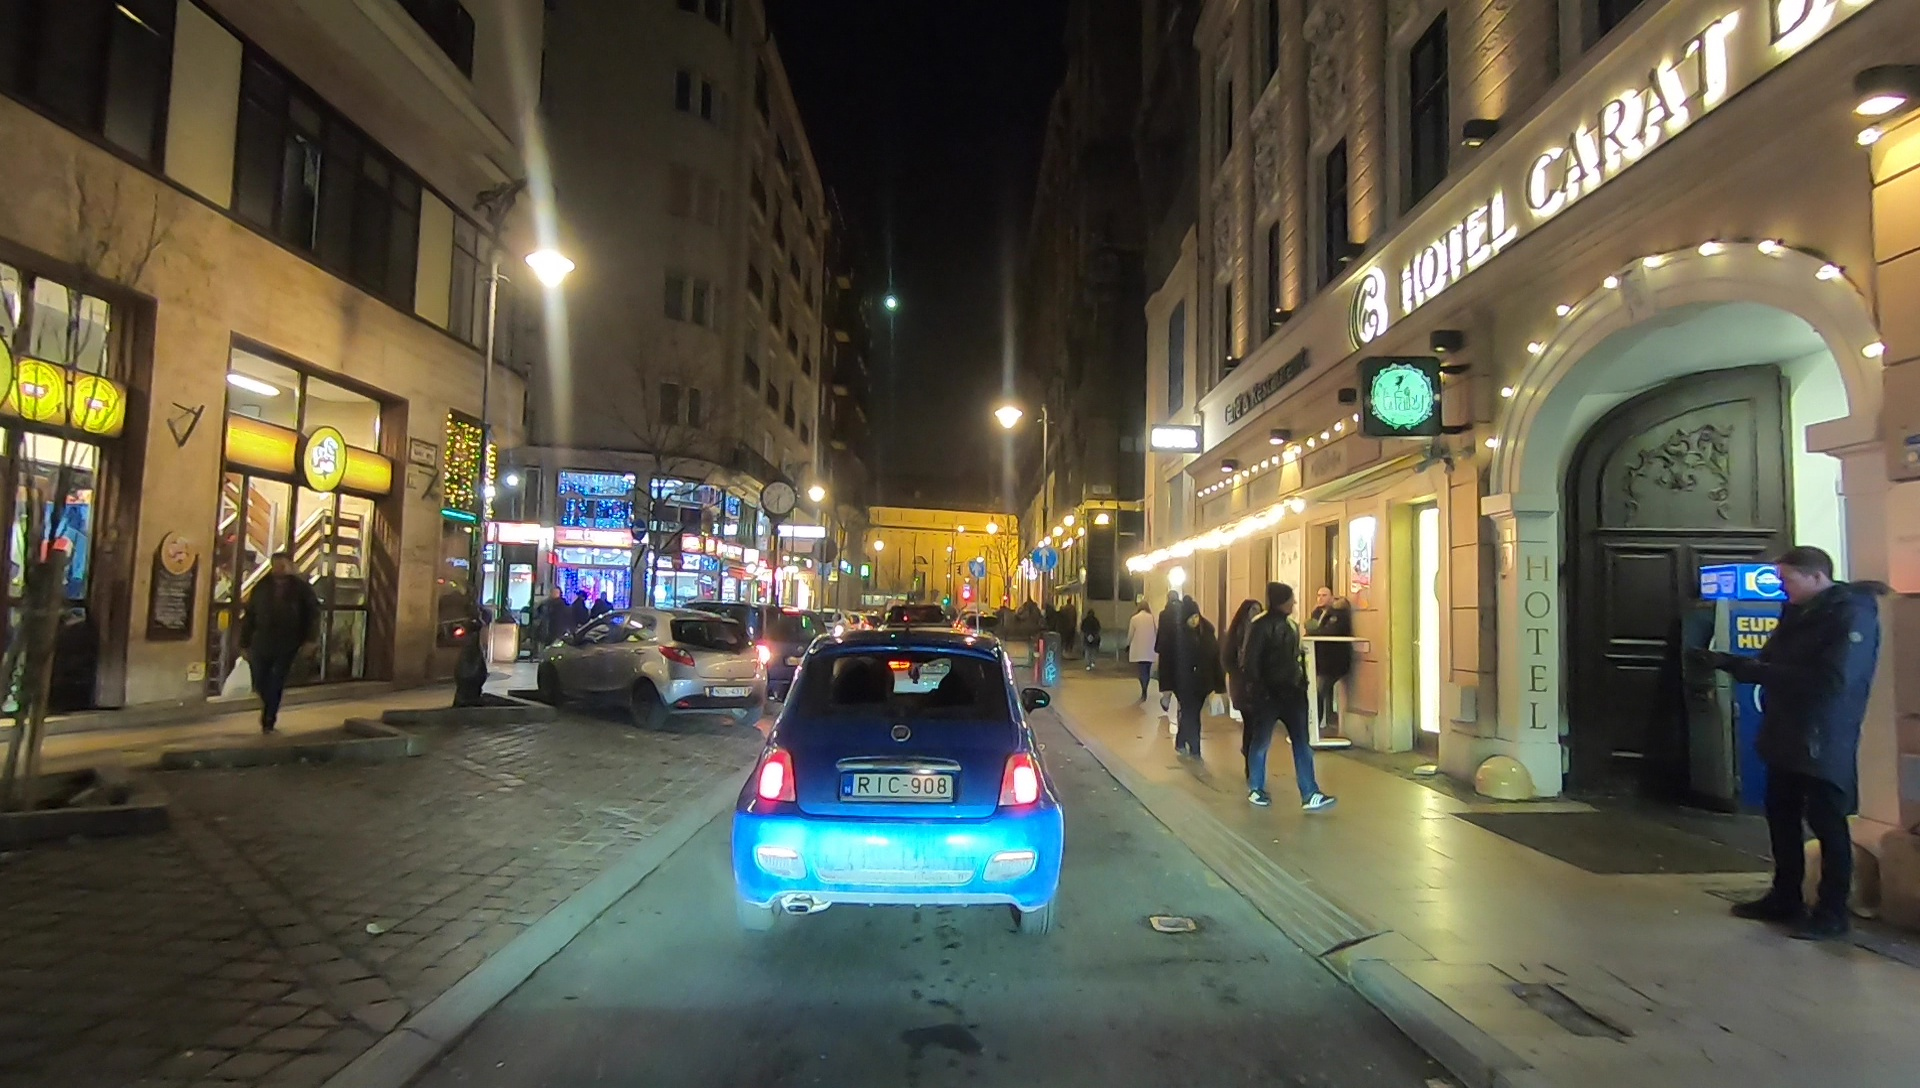person: (1701, 560, 1871, 945), (1245, 586, 1332, 817), (228, 550, 321, 745), (1169, 600, 1217, 761), (1308, 591, 1356, 743), (1128, 600, 1158, 706), (1082, 610, 1099, 680), (1065, 600, 1082, 661)
